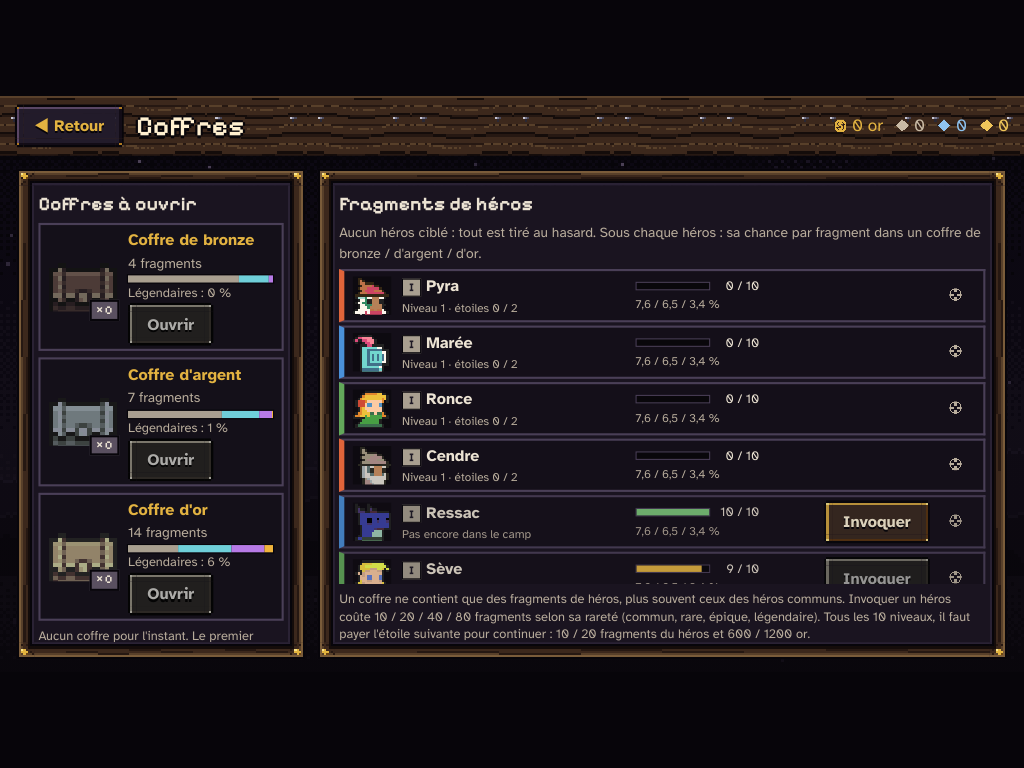
Test case: écran des coffres › invoque un héros avec ses fragments, pas avant
Expected: the button "Invoquer" in the row of "Sève" is disabled, 824,557 -> 930,584
Click the button "Invoquer" in the row of "Ressac": (877,522) 824,500 -> 930,543
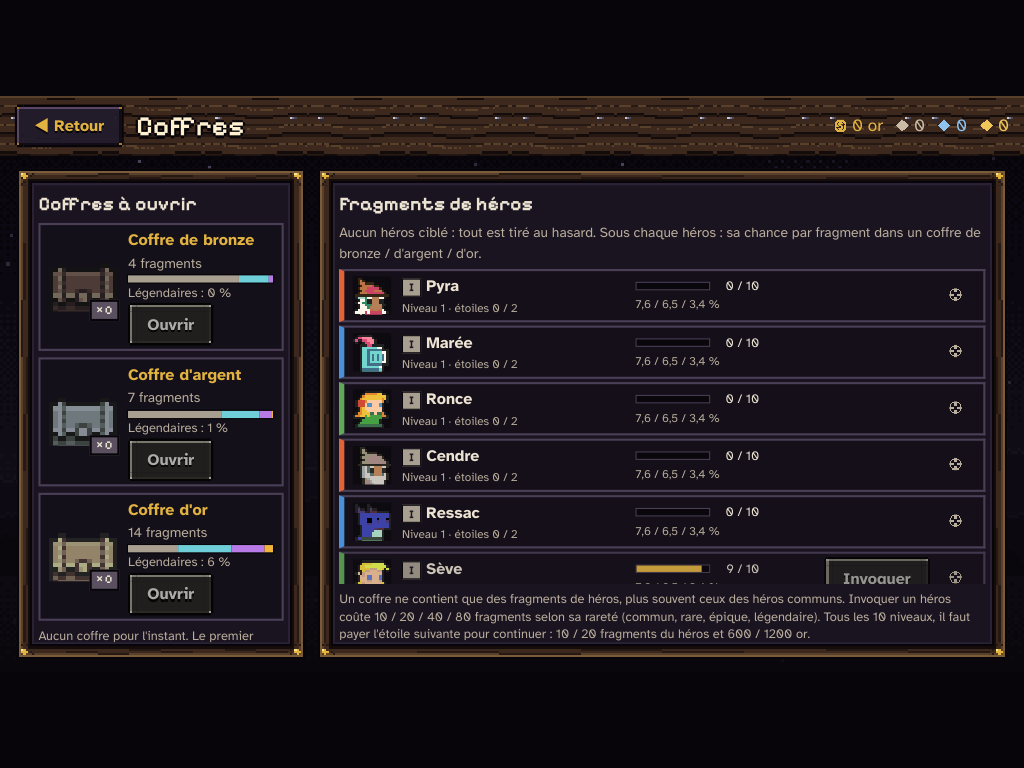
Result: the text "Niveau 1 · étoiles 0 / 2" below "Ressac" is shown at 402,526 -> 518,540
